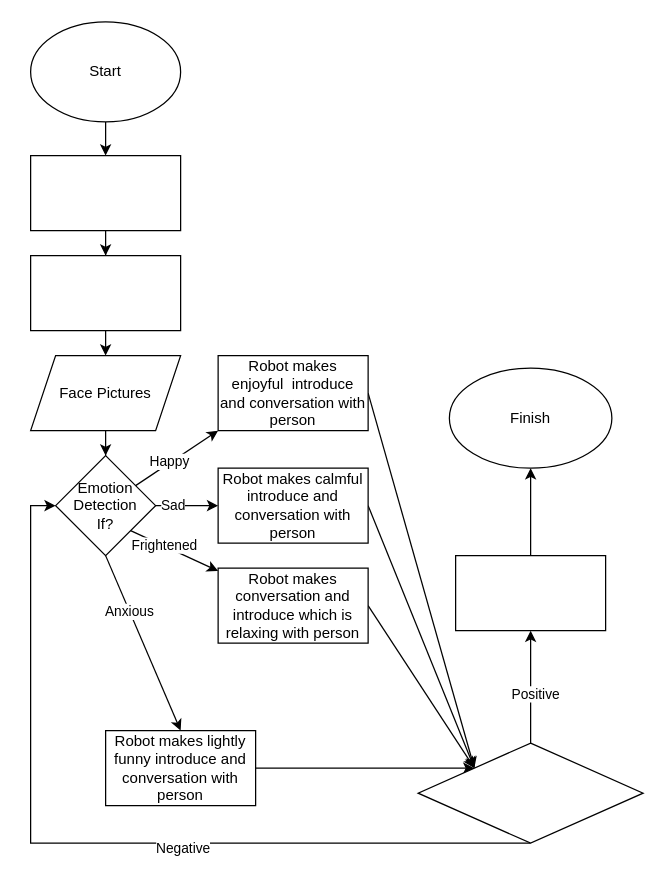
Some shapes in this 665 by 878 pixel diagram are drawn without their labels. Each missing label, with the box of its shape:
If person reply...?: (417, 742, 643, 843)
Robot continue to conversation same style: (454, 554, 606, 631)
Robot Detect Person: (29, 154, 181, 231)
Robot Record Face of Detected Person: (29, 254, 181, 331)
